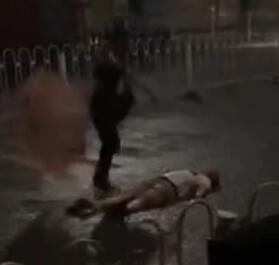Fall-Detected: (80, 158, 218, 219)
